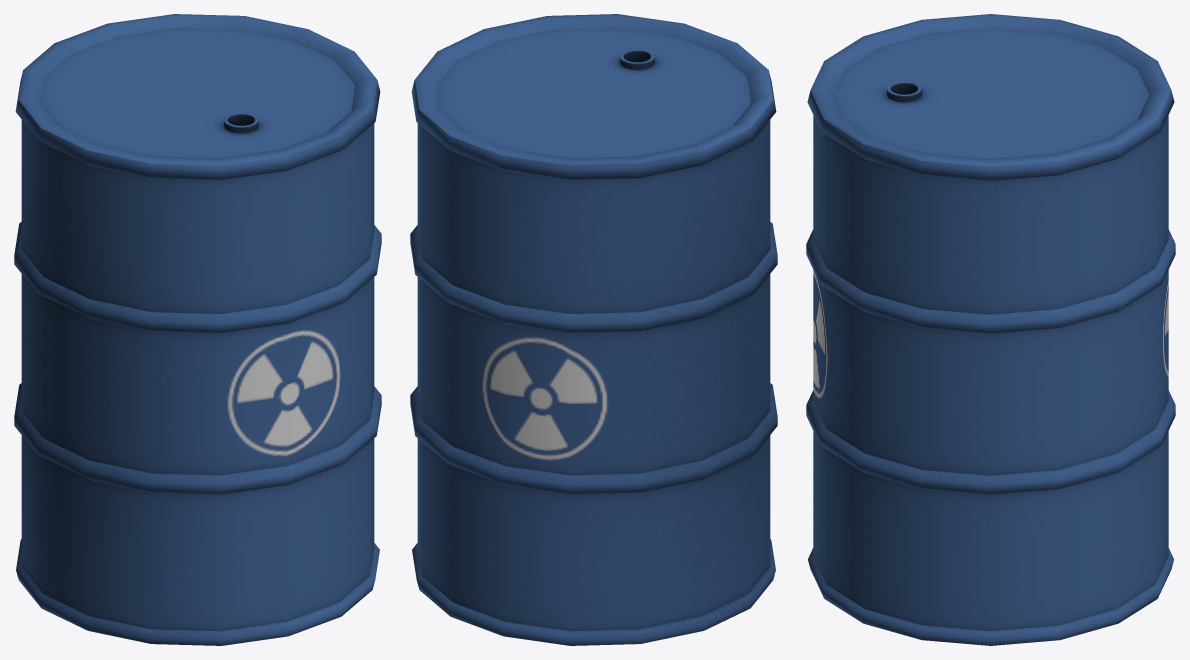
The model's file is oilBarrel03.fbx.
The picture shows the model from 3 angles, left to right: view 1: azimuth 30°, elevation 25°; view 2: azimuth 150°, elevation 25°; view 3: azimuth 270°, elevation 25°; orthographic projection.
Visible parts, largest first — view 1: polySurface188; view 2: polySurface188; view 3: polySurface188.
Boxes of the visible parts, x1,y1,x2,y2 form: polySurface188: (14, 14, 381, 645); polySurface188: (410, 14, 777, 645); polySurface188: (806, 14, 1175, 645).
Bounding box in the file's own units: 14.19 × 20.47 × 14.19.
Materials: 1 (1 with a texture image).
